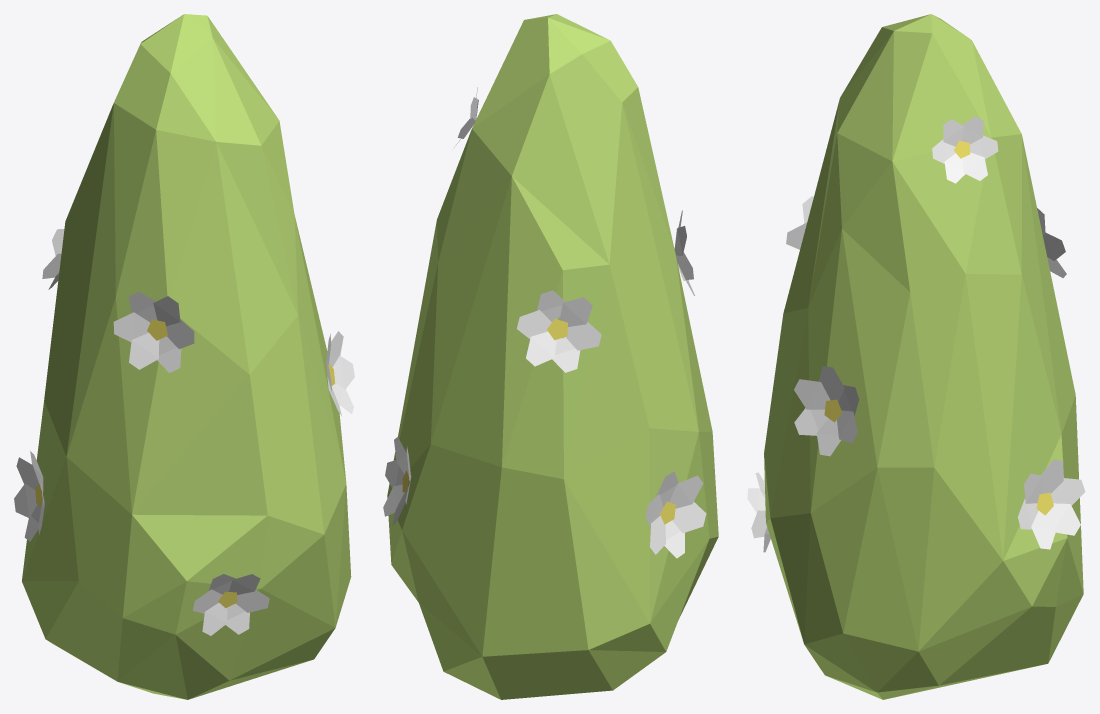
File: FlowerBush_a_m_04.fbx
3 renders of one model, left to right at view 1: azimuth 30°, elevation 25°; view 2: azimuth 150°, elevation 25°; view 3: azimuth 270°, elevation 25°, orthographic.
Parts seen in each view (by area): view 1: FlowerBush_a_m_04_LOD0; view 2: FlowerBush_a_m_04_LOD0; view 3: FlowerBush_a_m_04_LOD0.
Part boxes in pixels (x1,y1,x2,y2): FlowerBush_a_m_04_LOD0: (14, 14, 354, 699); FlowerBush_a_m_04_LOD0: (383, 14, 718, 699); FlowerBush_a_m_04_LOD0: (747, 14, 1085, 699).
Size of what is drawn, in the model's own units: 121 by 270 by 124.
